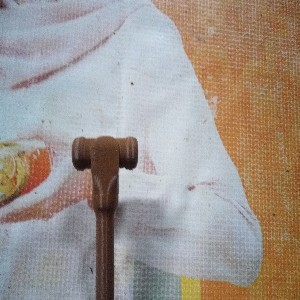palu: (71, 135, 138, 300)
